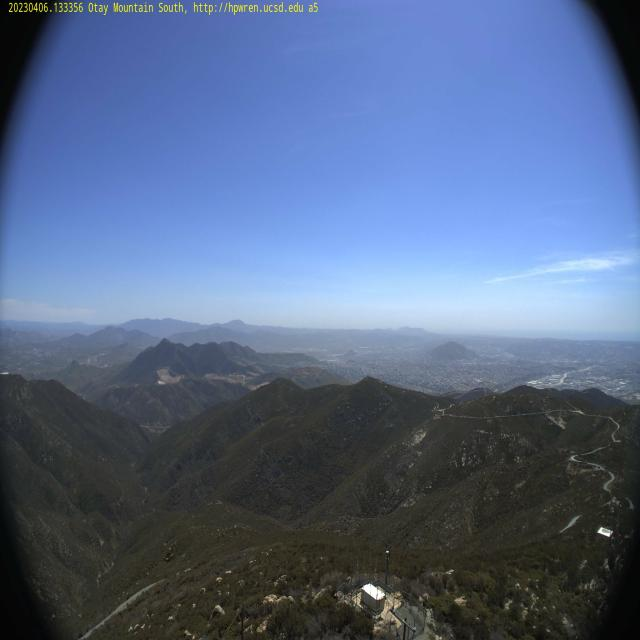smoke: (463, 342, 520, 361)
